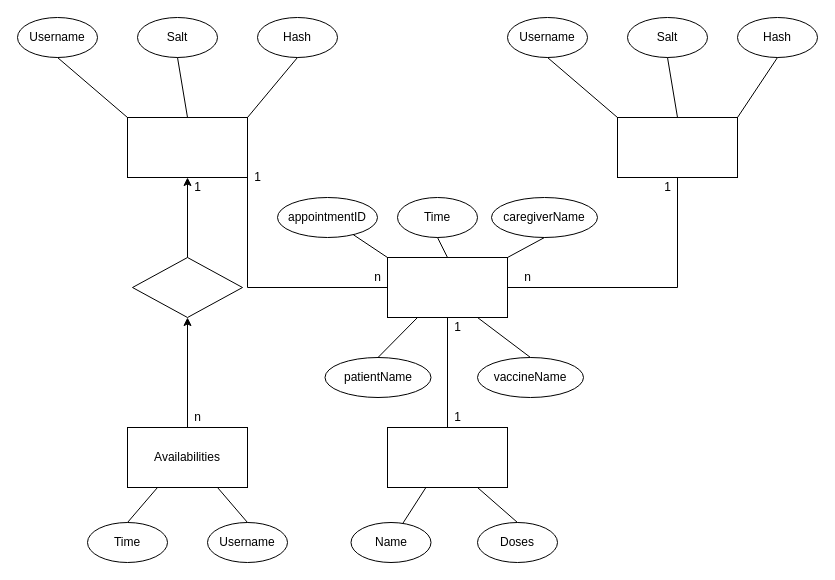
The diagram is 835 pixels wide and 580 high, and some of its shapes have lost their labels. Each missing label, with the centre of its shape:
"Appointment" belongs at (x=447, y=287).
"Belong to" belongs at (x=187, y=287).
"Caregivers" belongs at (x=187, y=147).
"Patients" belongs at (x=677, y=147).
"Vaccines" belongs at (x=447, y=457).
